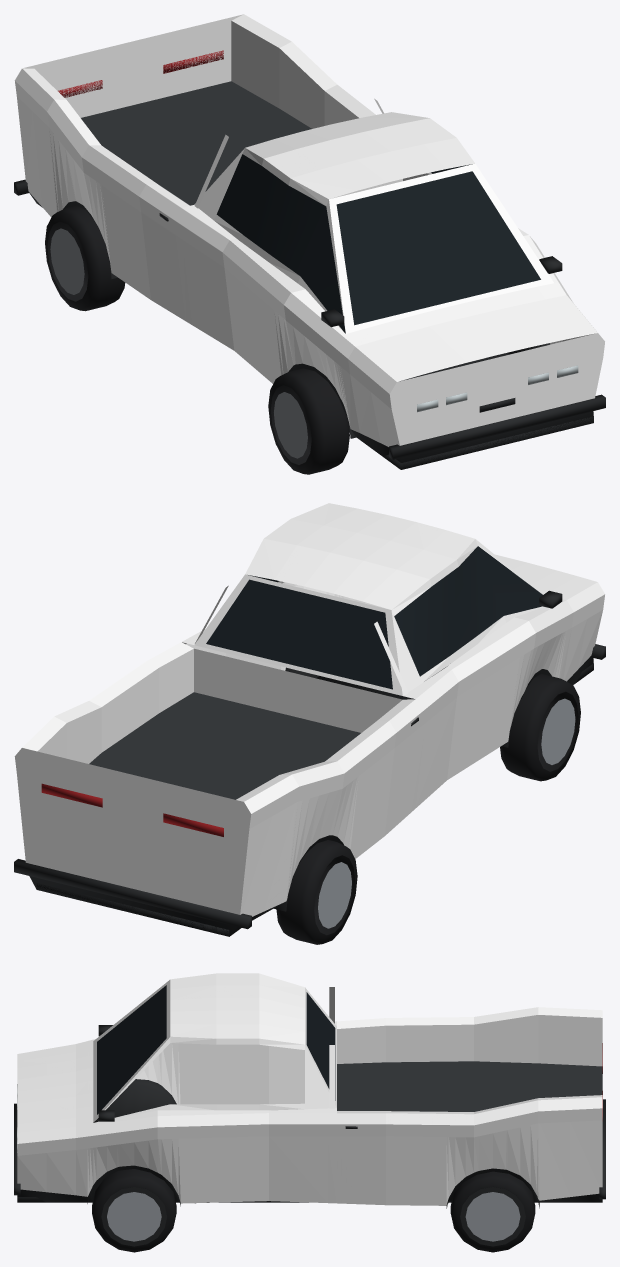
The model's file is bancroft_oleiro.glb.
3 views of the same model, one above another, from view 1: azimuth 30°, elevation 25°; view 2: azimuth 150°, elevation 25°; view 3: azimuth 270°, elevation 25° (orthographic). The views are drawn at different scales.
Visible parts, largest first — view 1: Body_Paint, Body_Details, Mount_FrontLeft_Wheel_Details, Mount_RearLeft_Wheel_Details; view 2: Body_Paint, Body_Details, Mount_FrontLeft_Wheel_Details, Mount_RearLeft_Wheel_Details; view 3: Body_Paint, Body_Details, Mount_FrontRight_Wheel_Details, Mount_RearRight_Wheel_Details.
Boxes of the visible parts, <box> form: Body_Paint: <box>14,14,604,446</box>; Body_Details: <box>14,50,605,469</box>; Mount_FrontLeft_Wheel_Details: <box>268,368,349,474</box>; Mount_RearLeft_Wheel_Details: <box>45,205,125,311</box>; Body_Paint: <box>14,503,605,916</box>; Body_Details: <box>14,546,605,936</box>; Mount_FrontLeft_Wheel_Details: <box>500,674,580,781</box>; Mount_RearLeft_Wheel_Details: <box>276,840,357,944</box>; Body_Paint: <box>17,973,602,1205</box>; Body_Details: <box>14,985,605,1208</box>; Mount_FrontRight_Wheel_Details: <box>92,1169,176,1252</box>; Mount_RearRight_Wheel_Details: <box>450,1171,535,1252</box>.
Size of the model in its own units: 2.03 by 1.79 by 4.84.
2 materials, 1 textured.
